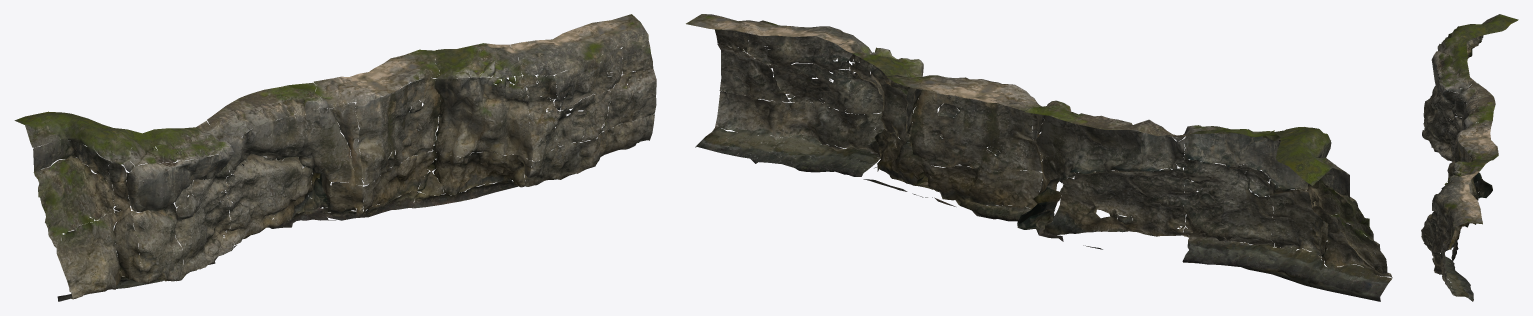
File: kf_cliff_b.glb
The picture shows the model from 3 angles, left to right: view 1: azimuth 30°, elevation 25°; view 2: azimuth 150°, elevation 25°; view 3: azimuth 270°, elevation 25°; orthographic projection. The views are drawn at different scales.
Parts seen in each view (by area): view 1: coastal_cliff_02_LOD0; view 2: coastal_cliff_02_LOD0; view 3: coastal_cliff_02_LOD0.
Part boxes in pixels (x1=…): coastal_cliff_02_LOD0: x1=14, y1=14, x2=656, y2=301; coastal_cliff_02_LOD0: x1=686, y1=14, x2=1392, y2=301; coastal_cliff_02_LOD0: x1=1421, y1=14, x2=1518, y2=301.
Size of what is drawn, in the model's own units: 40.94 by 10.04 by 8.63.
Materials: 1 (1 with a texture image).
